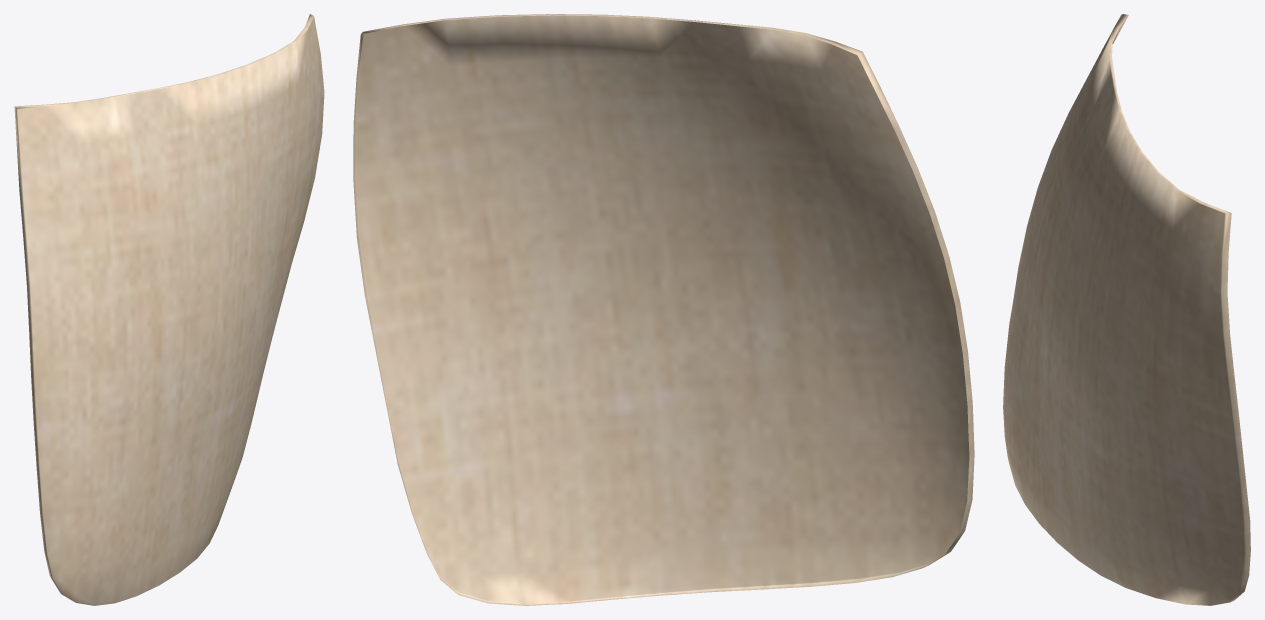
The model's file is Patch_pocket_new.glb.
The picture shows the model from 3 angles, left to right: view 1: azimuth 30°, elevation 25°; view 2: azimuth 150°, elevation 25°; view 3: azimuth 270°, elevation 25°; orthographic projection. The views are drawn at different scales.
Visible parts, largest first — view 1: Patch_Pocket Upper; view 2: Patch_Pocket Upper; view 3: Patch_Pocket Upper.
Boxes of the visible parts, x1,y1,x2,y2 form: Patch_Pocket Upper: (14,14,324,605); Patch_Pocket Upper: (353,14,974,605); Patch_Pocket Upper: (1003,14,1250,605).
Size of the model in its own units: 0.0124 by 0.0147 by 0.00687.
Materials: 1 (1 with a texture image).
